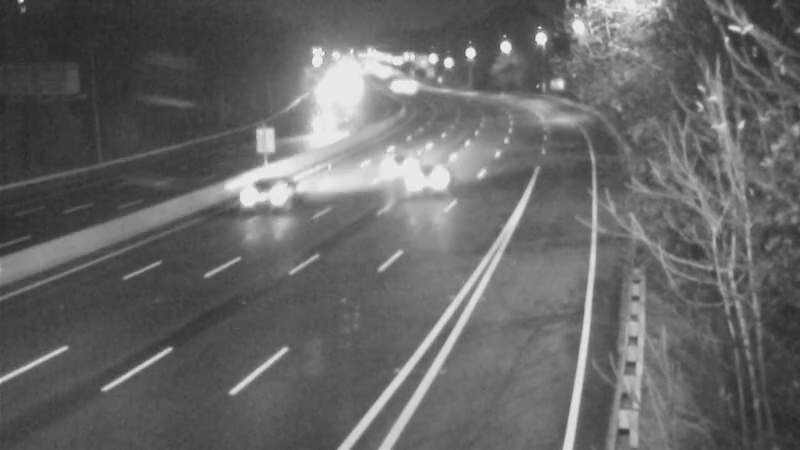vehicle: (388, 130, 468, 210), (356, 126, 436, 206), (233, 151, 313, 231), (304, 109, 354, 159)
